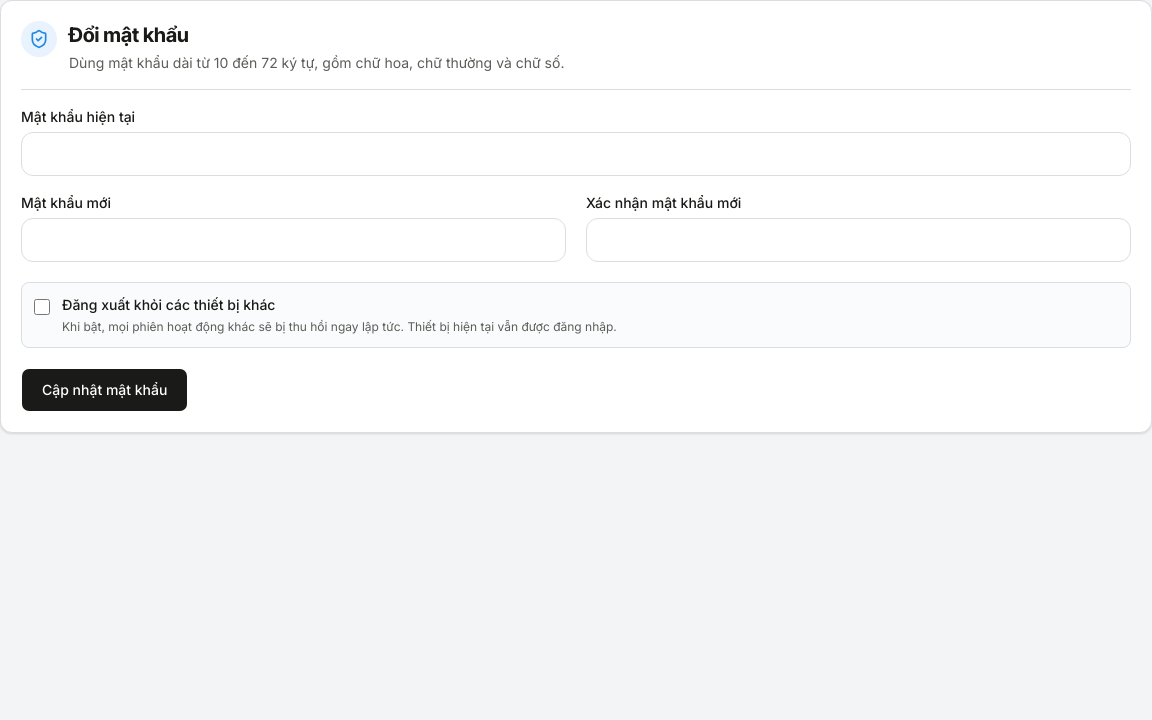
Test: ChangePasswordForm › keeps an unknown server error at form level
In the password field labelled "Mật khẩu hiện tại": (576, 154) x1=21 y1=132 x2=1131 y2=176, type "CurrentPass1"
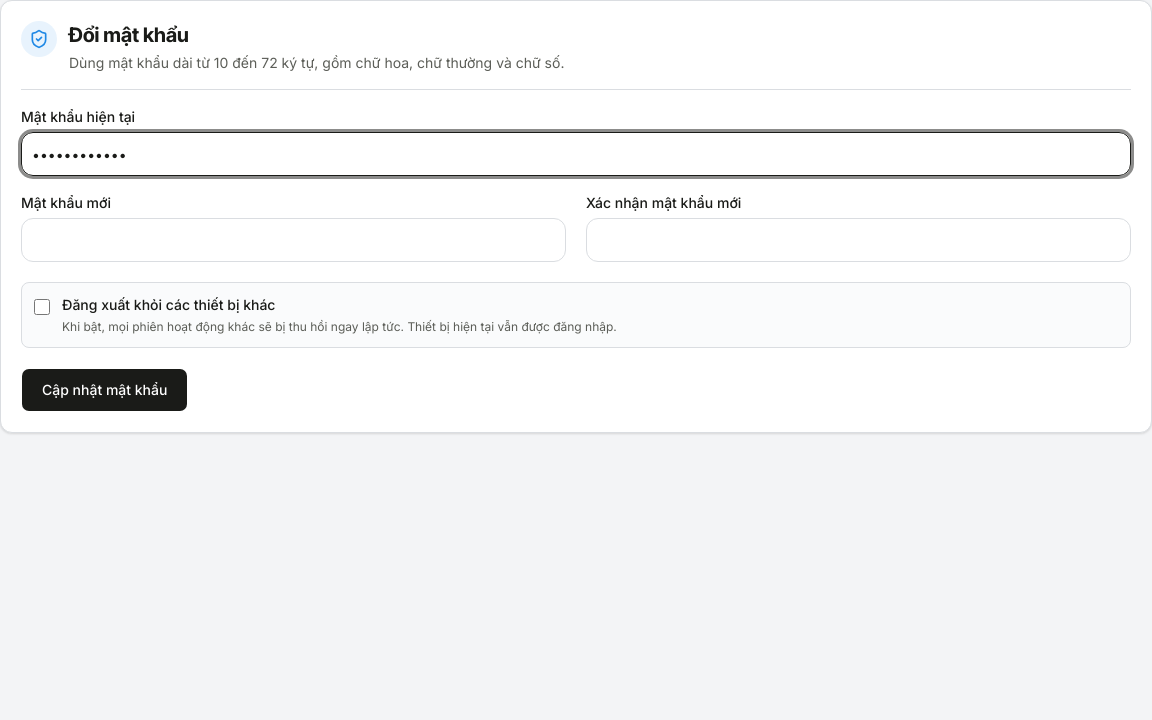
In the password field labelled "Mật khẩu mới": (294, 240) x1=21 y1=218 x2=566 y2=262, type "NewPassword1"
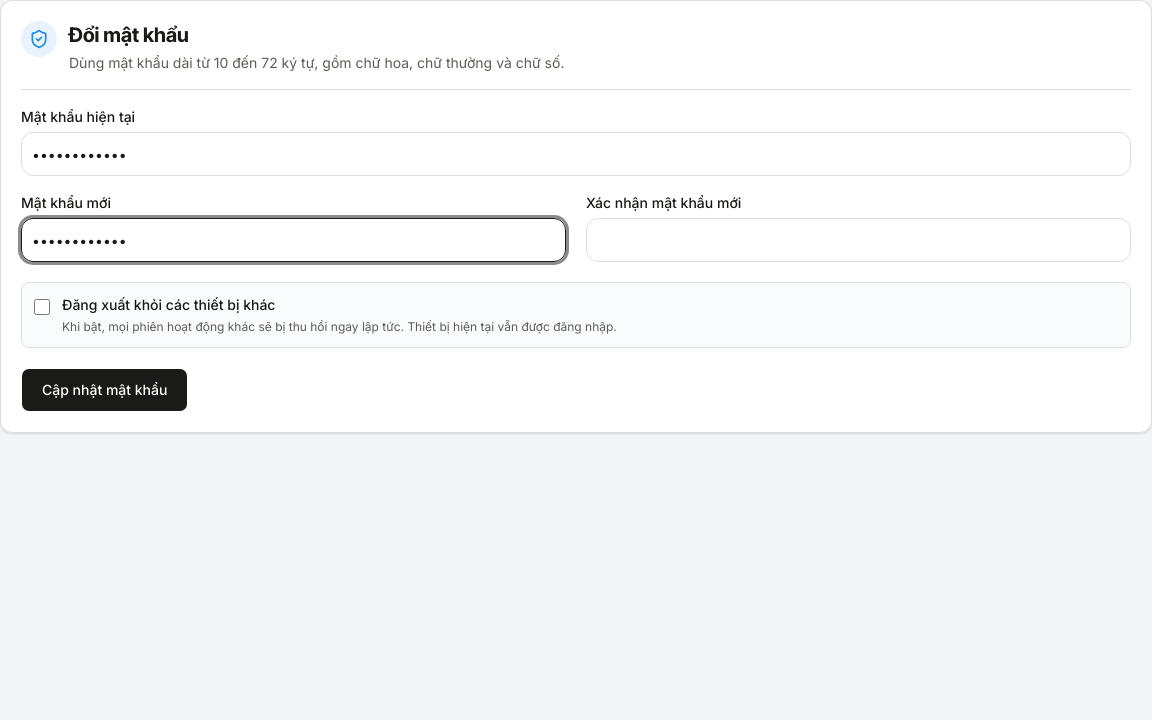
In the password field labelled "Xác nhận mật khẩu mới": (858, 240) x1=586 y1=218 x2=1131 y2=262, type "NewPassword1"
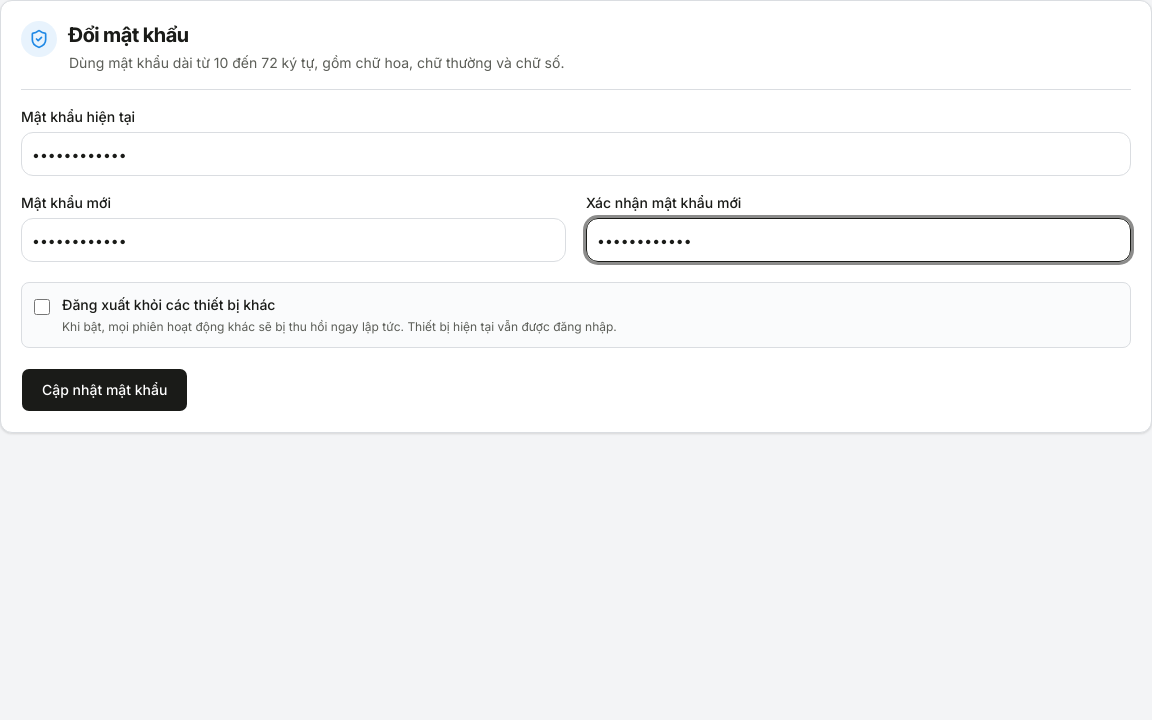
Click the button "Cập nhật mật khẩu": (105, 390) x1=21 y1=368 x2=188 y2=412
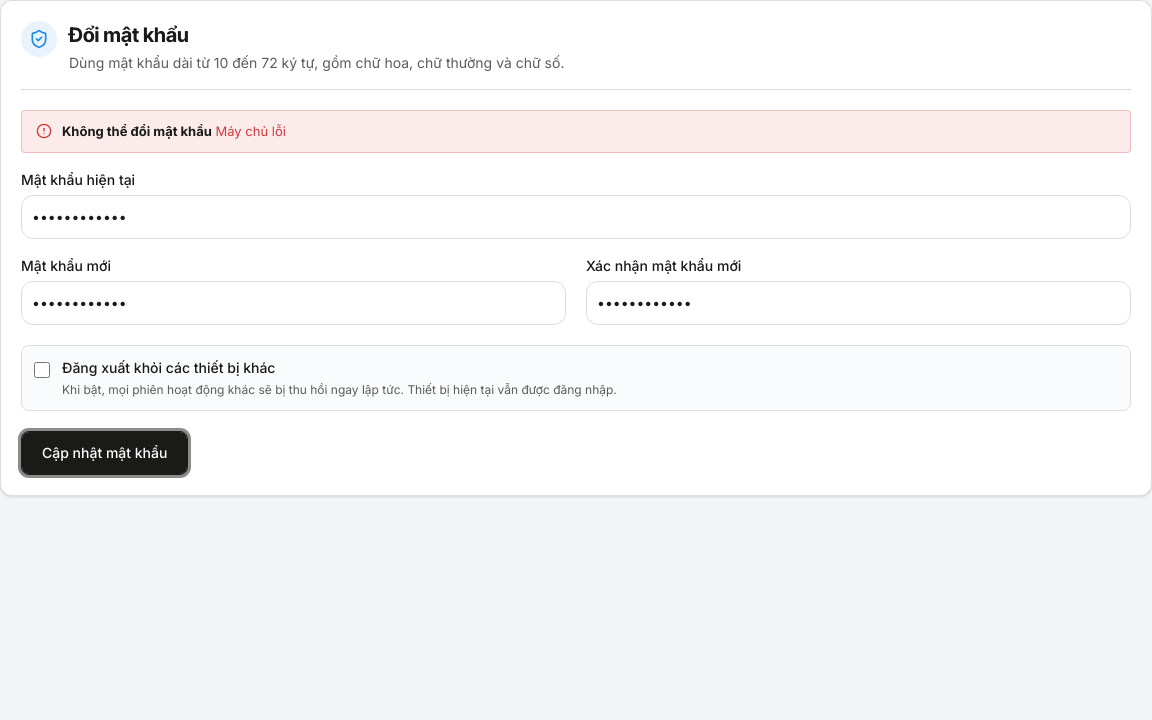
Expected: the text "Máy chủ lỗi" is shown, x1=216 y1=123 x2=286 y2=139
